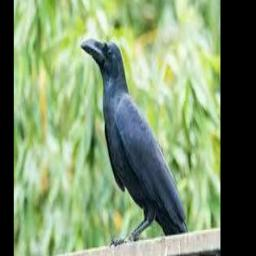Crow: (80, 37, 197, 256)
